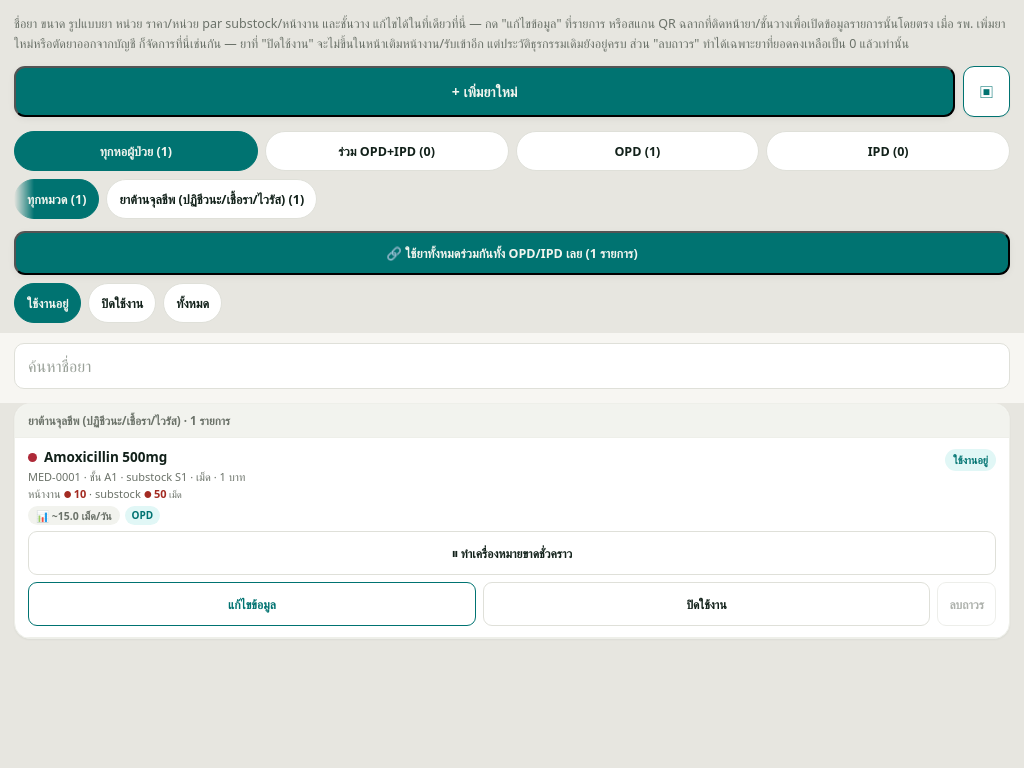
Test: MedsScreen — edit-form days-of-stock-left regression › shows the real runway for a med with usage history
Click the button "แก้ไขข้อมูล": (252, 604) [28,582,476,626]
(page scrolled)
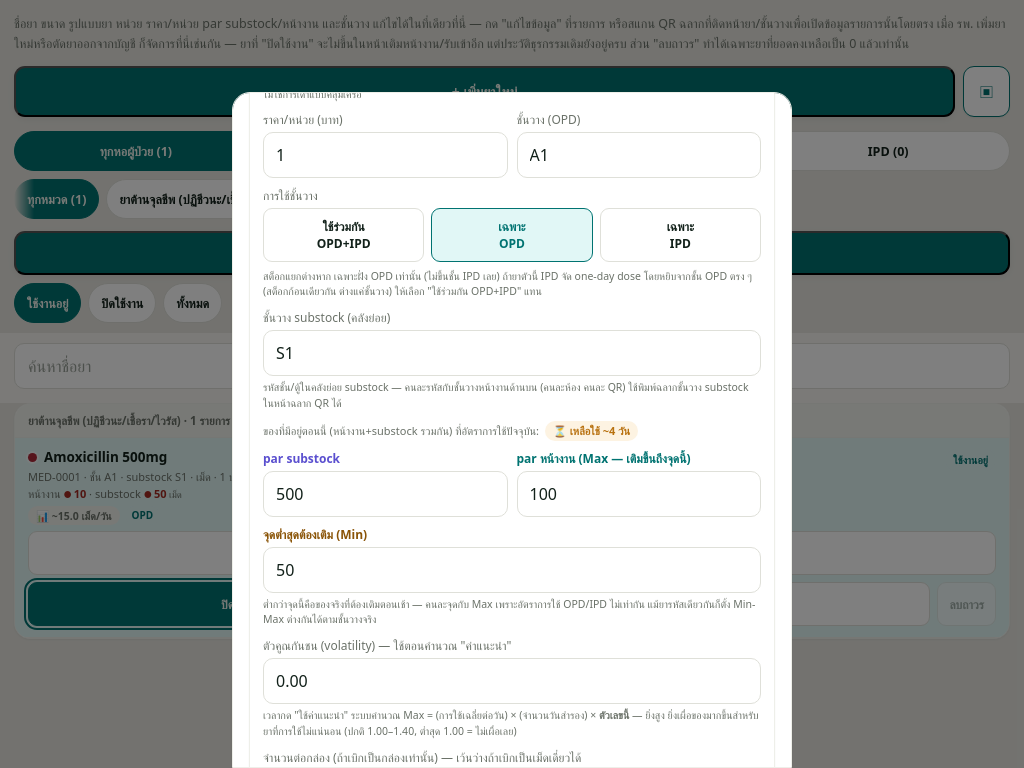
expect the text "⏳ เหลือใช้ ~4 วัน" is shown: met, box [545,420,638,440]
